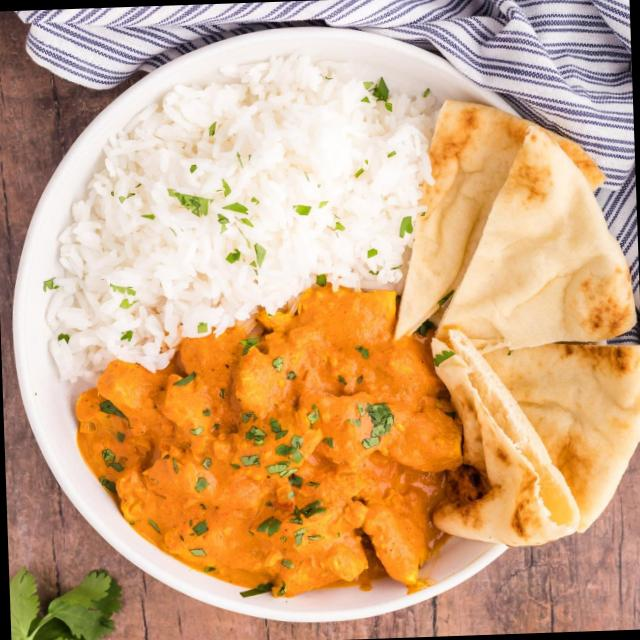chicken: (73, 300, 448, 598)
rice: (47, 48, 415, 314)
roti: (411, 78, 640, 560)
